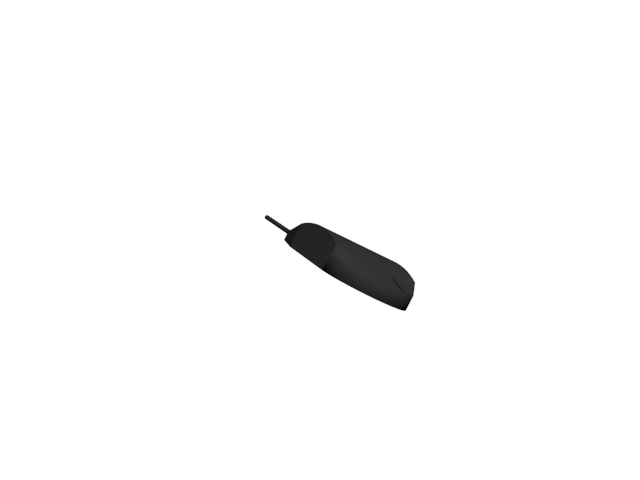mouse: (265, 209, 416, 312)
